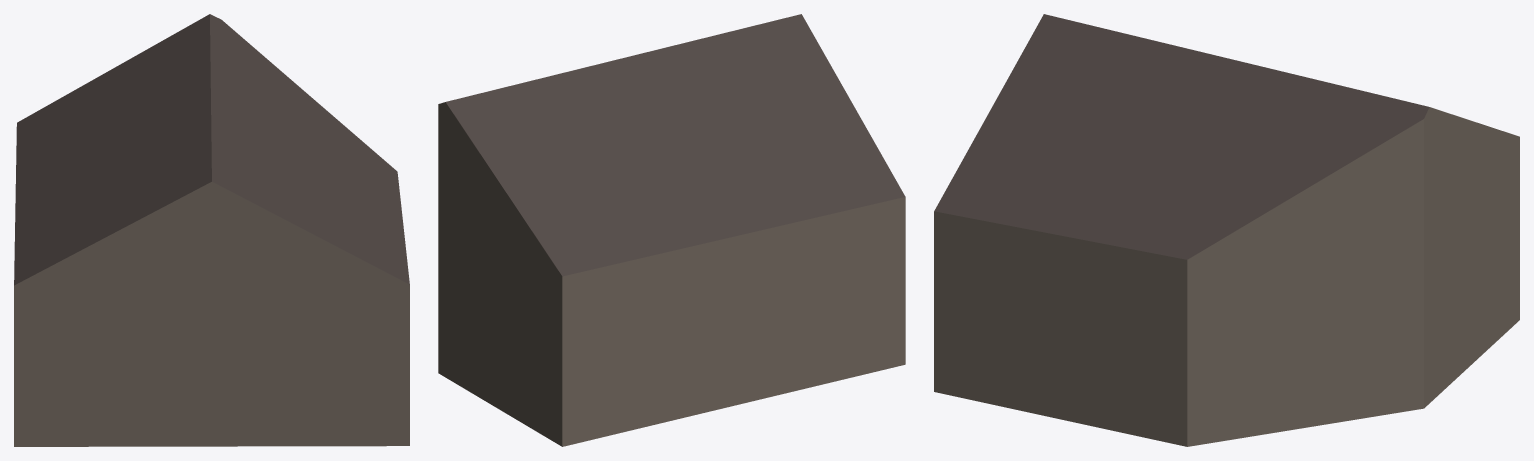
The picture shows the model from 3 angles, left to right: view 1: azimuth 30°, elevation 25°; view 2: azimuth 150°, elevation 25°; view 3: azimuth 270°, elevation 25°; orthographic projection. The views are drawn at different scales.
Parts seen in each view (by area): view 1: HP-w859078871; view 2: HP-w859078871; view 3: HP-w859078871.
Boxes of the visible parts, bbox=[...] form: HP-w859078871: bbox=[14, 14, 409, 446]; HP-w859078871: bbox=[438, 14, 905, 446]; HP-w859078871: bbox=[934, 14, 1519, 446].
Bounding box in the file's own units: 23.26 × 14.78 × 26.44.
